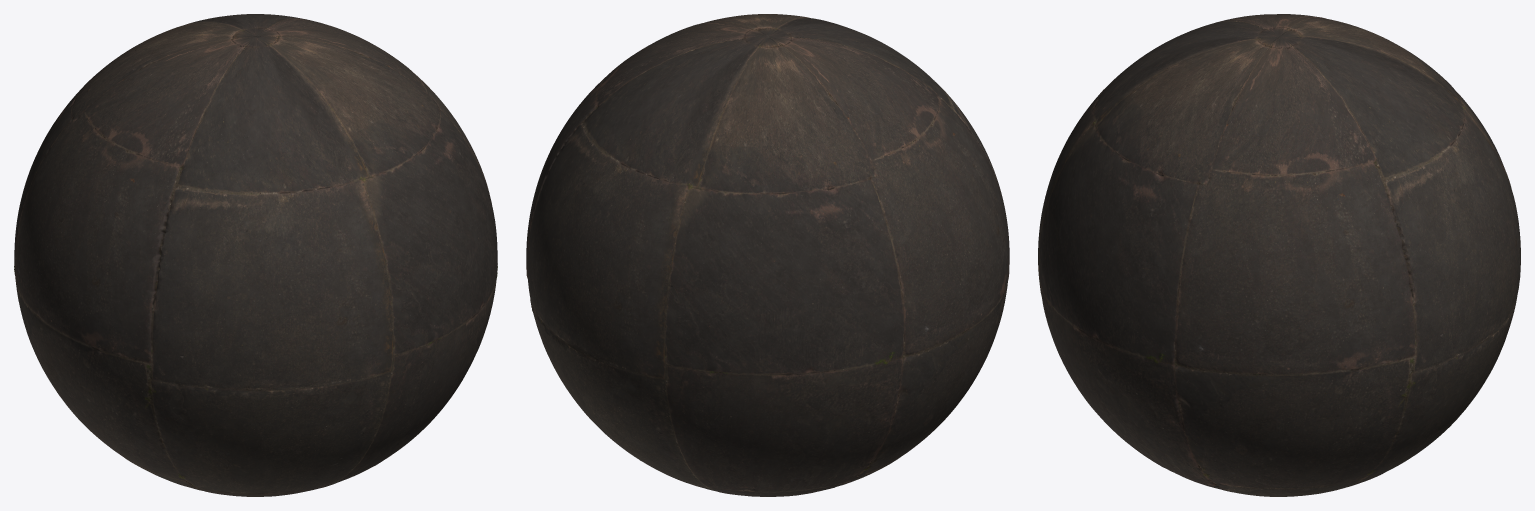
The model's file is red_sandstone_tiles_2k.gltf.
The picture shows the model from 3 angles, left to right: view 1: azimuth 30°, elevation 25°; view 2: azimuth 150°, elevation 25°; view 3: azimuth 270°, elevation 25°; orthographic projection.
Parts seen in each view (by area): view 1: sphere_gltf; view 2: sphere_gltf; view 3: sphere_gltf.
Part boxes in pixels (bbox=[...]): sphere_gltf: bbox=[14, 14, 497, 496]; sphere_gltf: bbox=[526, 14, 1009, 496]; sphere_gltf: bbox=[1038, 14, 1520, 496].
Size of the model in its own units: 2.06 by 2.06 by 2.05.
Materials: 1 (1 with a texture image).
